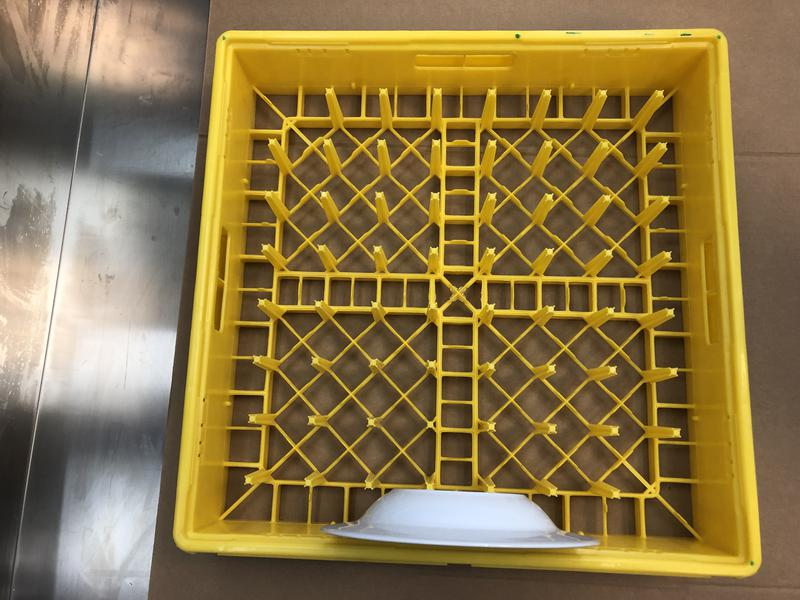Dish: (322, 488, 602, 554)
